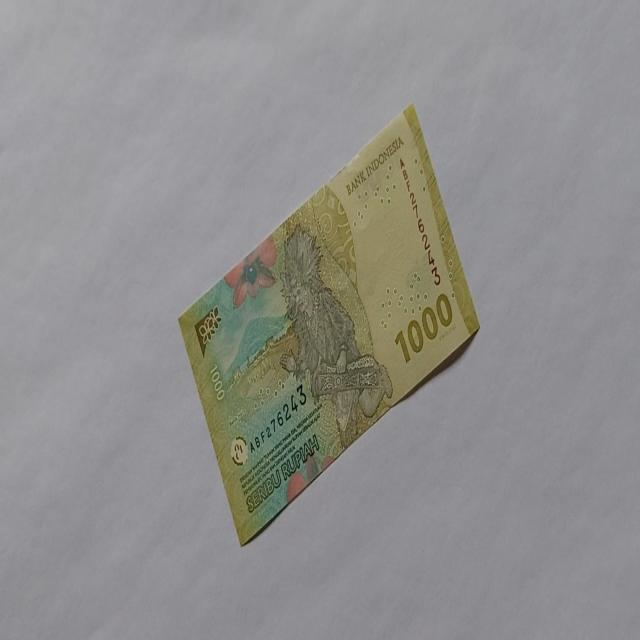seribu rupiah kertas: (176, 101, 479, 547)
